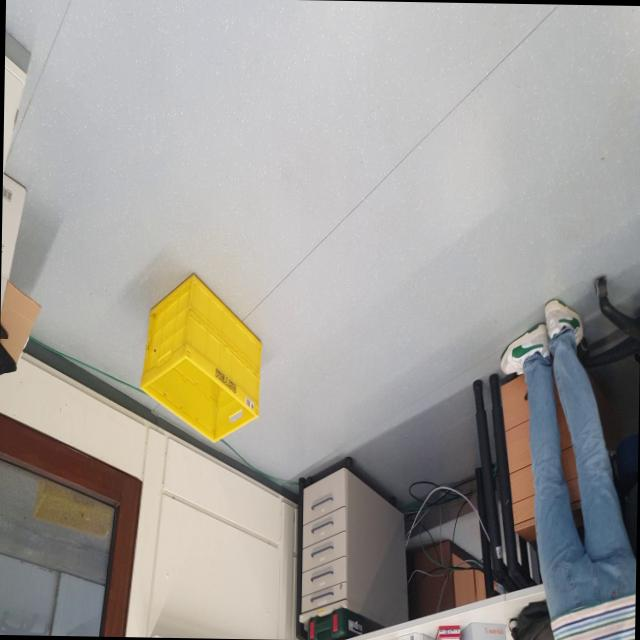box: (128, 264, 270, 450)
